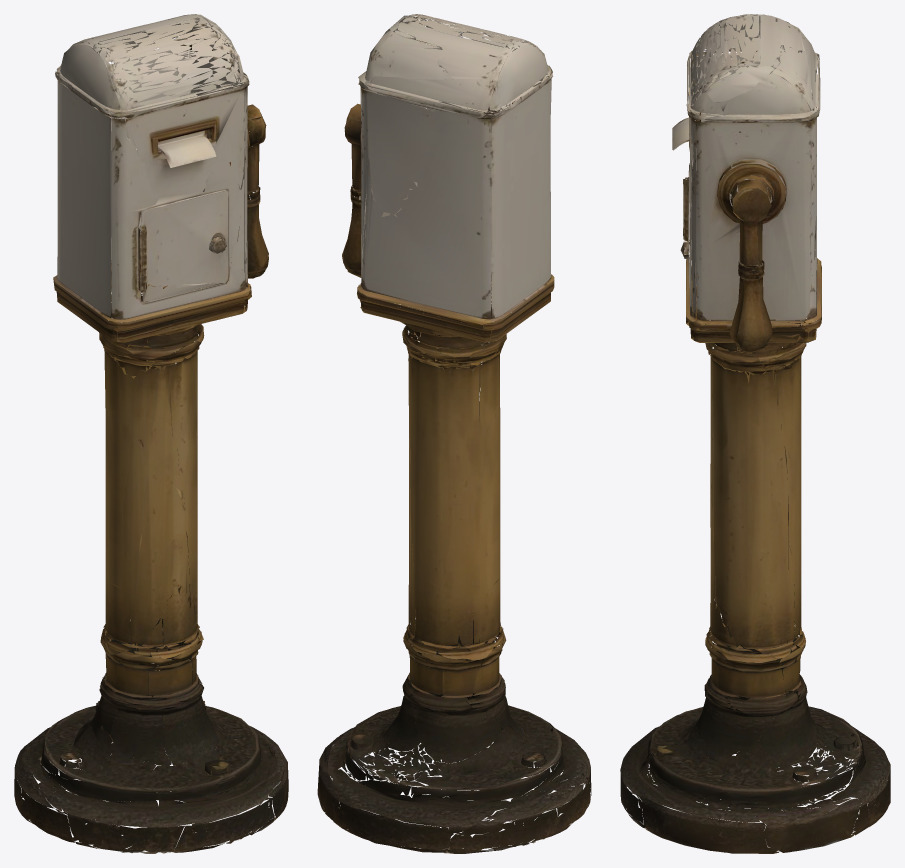
Rendered from ch03_queue_dispenser.glb.
3 views of the same model, side by side, from view 1: azimuth 30°, elevation 25°; view 2: azimuth 150°, elevation 25°; view 3: azimuth 270°, elevation 25° (orthographic).
Parts seen in each view (by area): view 1: material; view 2: material; view 3: material.
Part boxes in pixels (left/top/right/bottom): material: left=14, top=14, right=288, bottom=853; material: left=317, top=14, right=591, bottom=853; material: left=620, top=14, right=890, bottom=853.
Size of the model in its own units: 0.3732 by 1.14 by 0.3703.
1 material, 1 textured.
